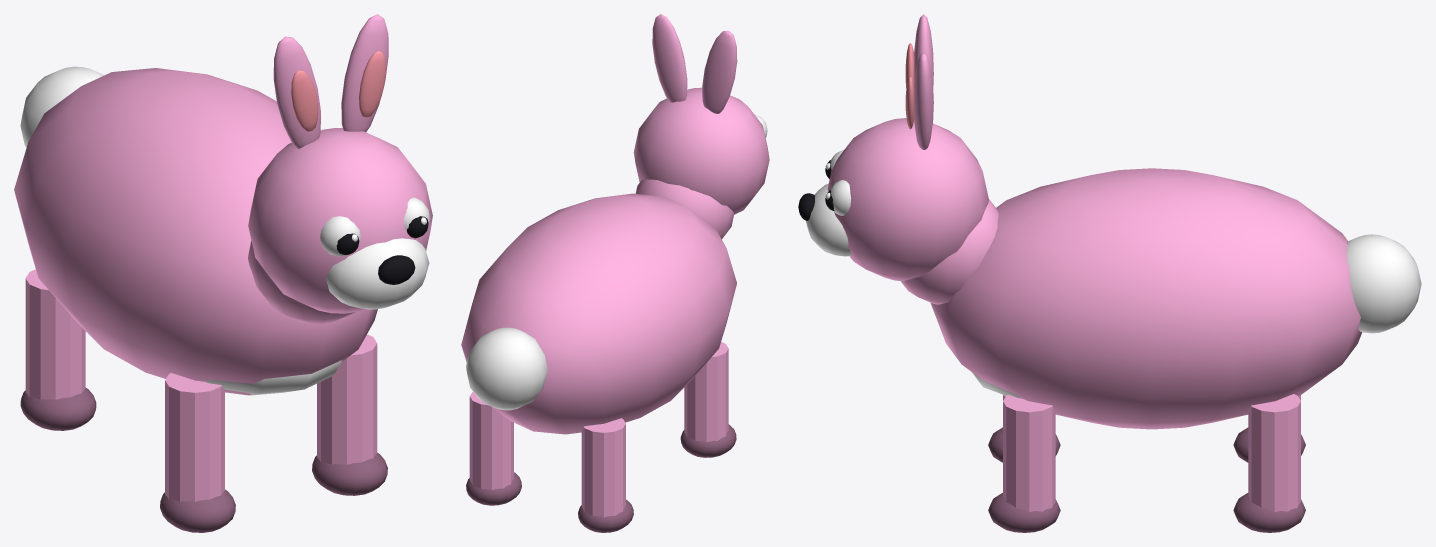
3 views of the same model, side by side, from view 1: azimuth 30°, elevation 25°; view 2: azimuth 150°, elevation 25°; view 3: azimuth 270°, elevation 25° (orthographic). The views are drawn at different scales.
Visible parts, largest first — view 1: Candy Bunny; view 2: Candy Bunny; view 3: Candy Bunny.
Boxes of the visible parts, box(x1,y1,x2,y2) form: Candy Bunny: box(14, 14, 432, 532); Candy Bunny: box(461, 14, 769, 532); Candy Bunny: box(798, 14, 1421, 532).
Bounding box in the file's own units: 1.7 × 3.08 × 3.77.
Materials: 1 (1 with a texture image).
